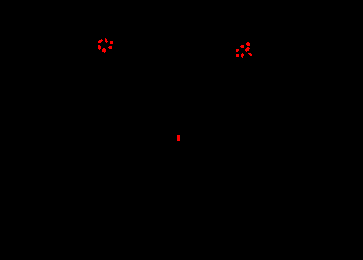Target: (245, 47, 250, 52), (98, 39, 103, 43), (102, 48, 106, 53), (177, 135, 180, 141), (246, 42, 250, 46), (105, 38, 108, 43), (98, 45, 101, 50), (241, 53, 244, 58), (240, 45, 244, 48), (108, 46, 112, 49), (248, 53, 252, 56), (110, 41, 113, 44), (236, 49, 239, 52), (236, 54, 239, 57)
